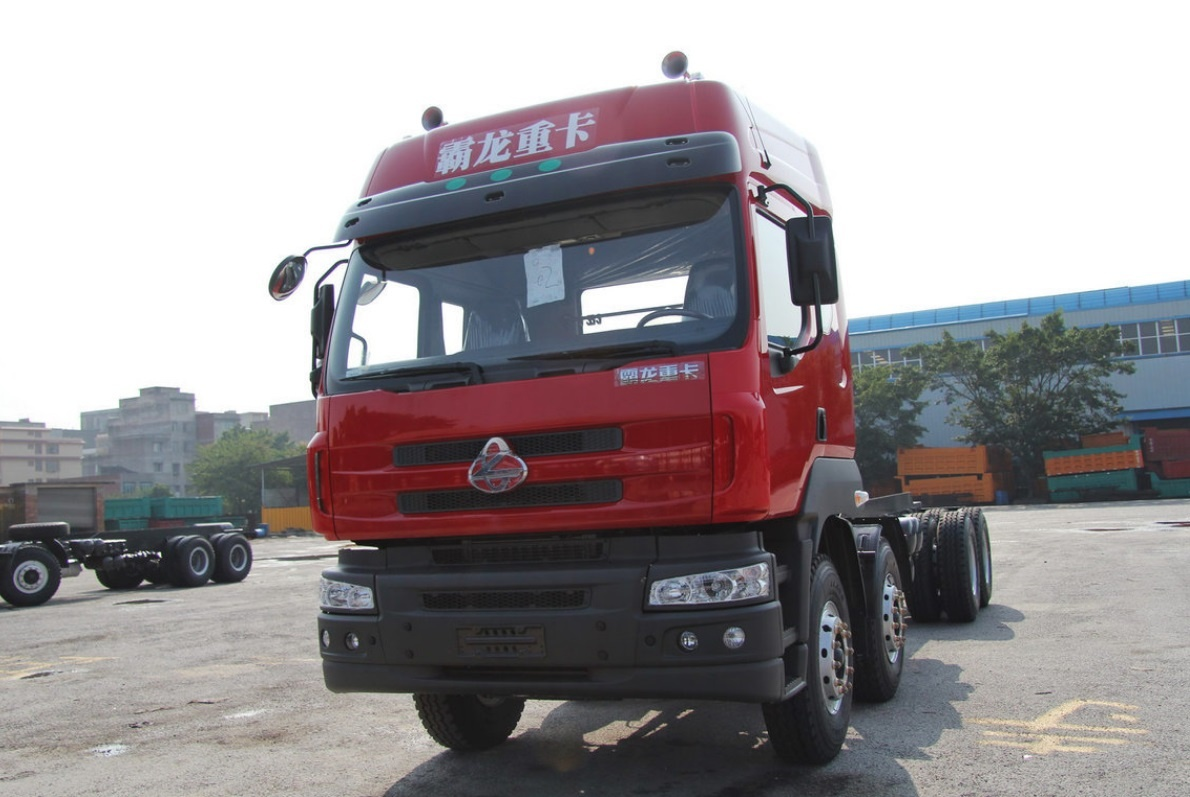heavy truck: (250, 43, 1004, 756)
